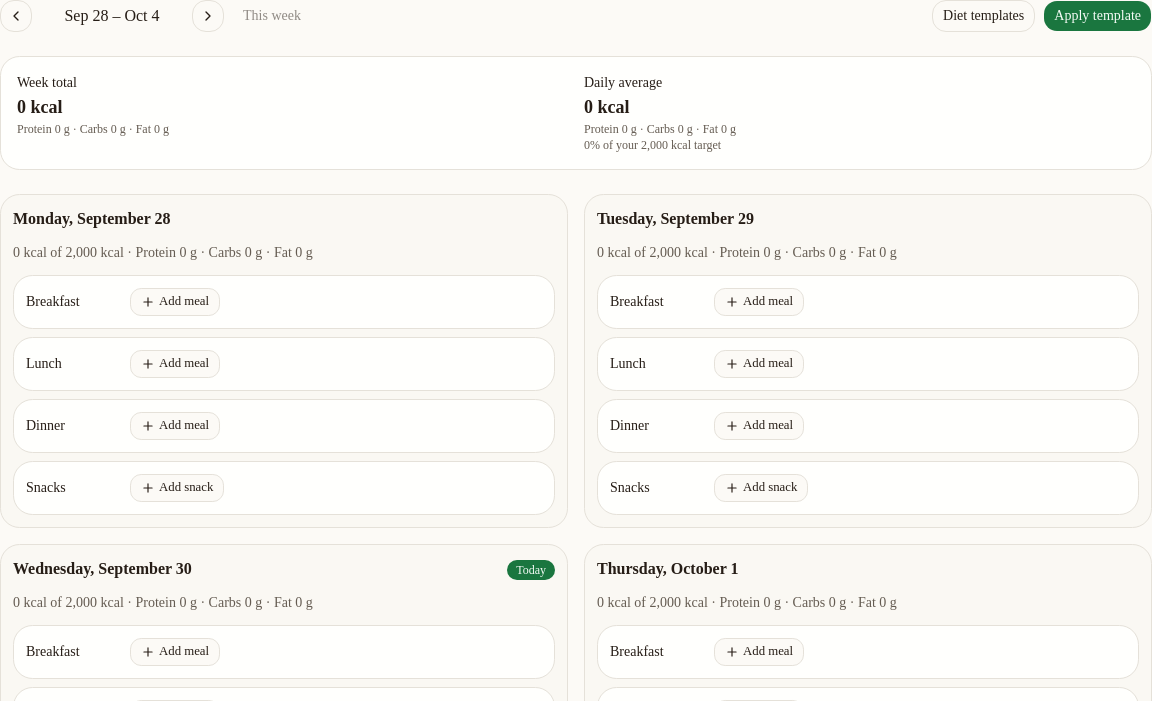
Test case: applying a template › retries once with overwrite when the person says replace
Expected: the text "Sep 28 – Oct 4" is shown, [64,7,160,24]
Click the button "Apply template" at (1098, 16), box [1043,0,1151,32]
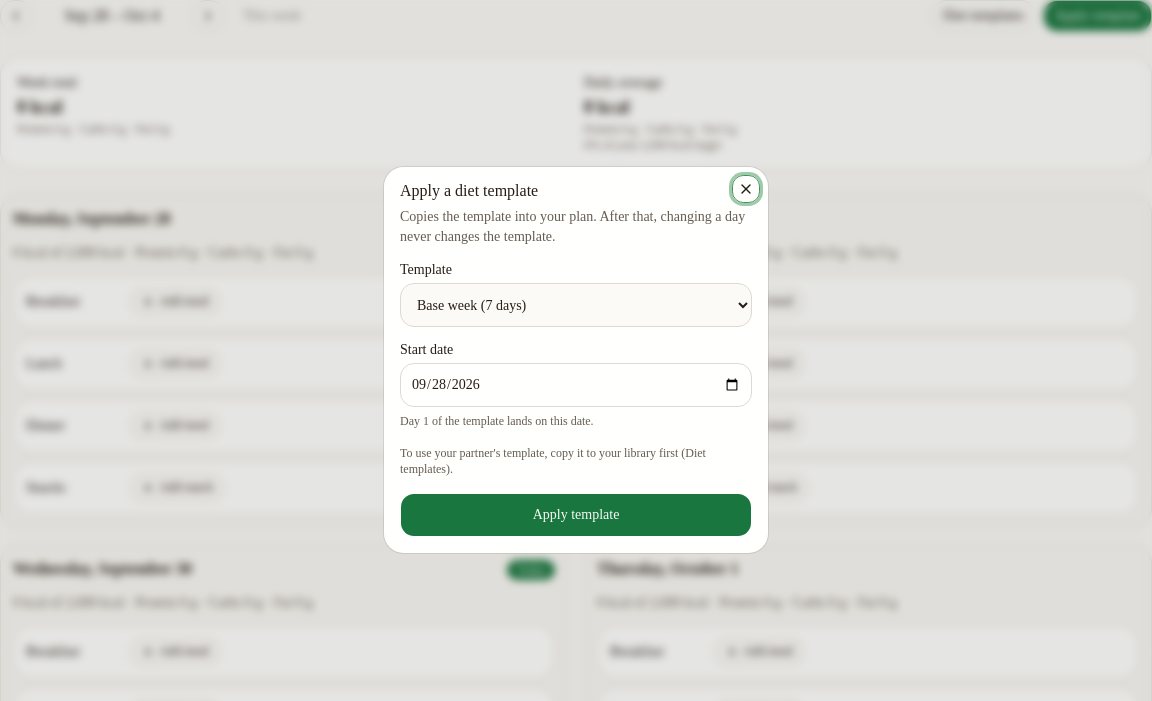
Click the button "Apply template" at (576, 515), box [400,493,752,537]
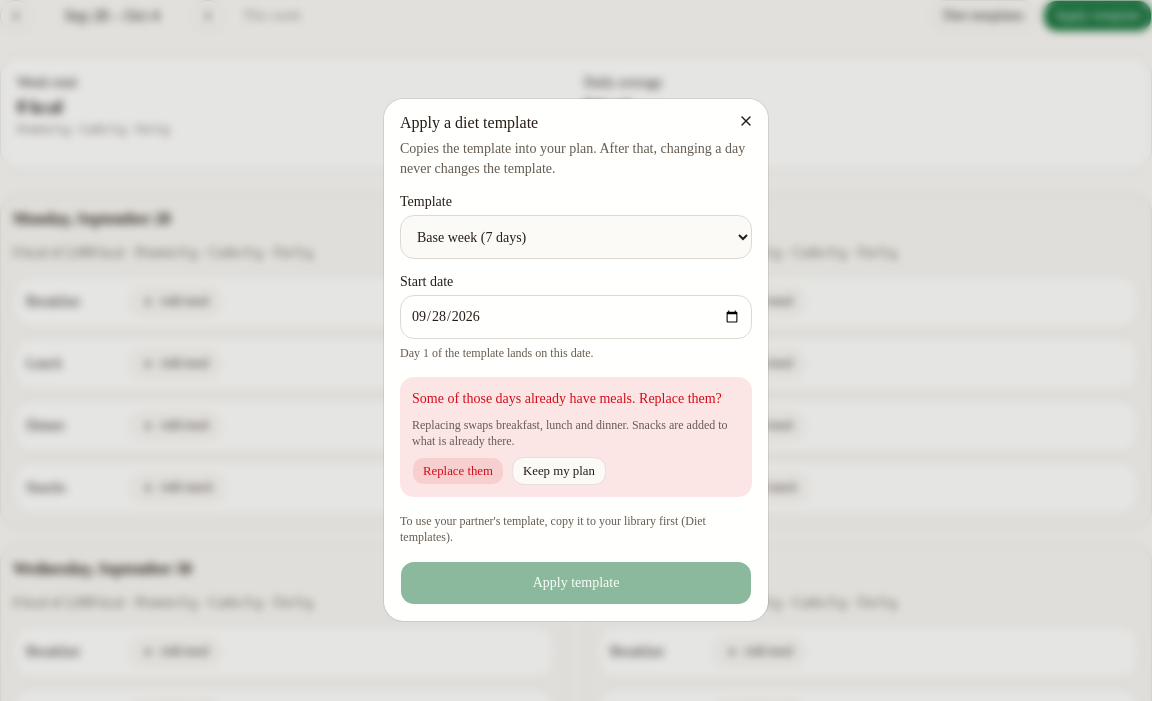
Click the button "Replace them" at (458, 471), box [412,457,504,485]
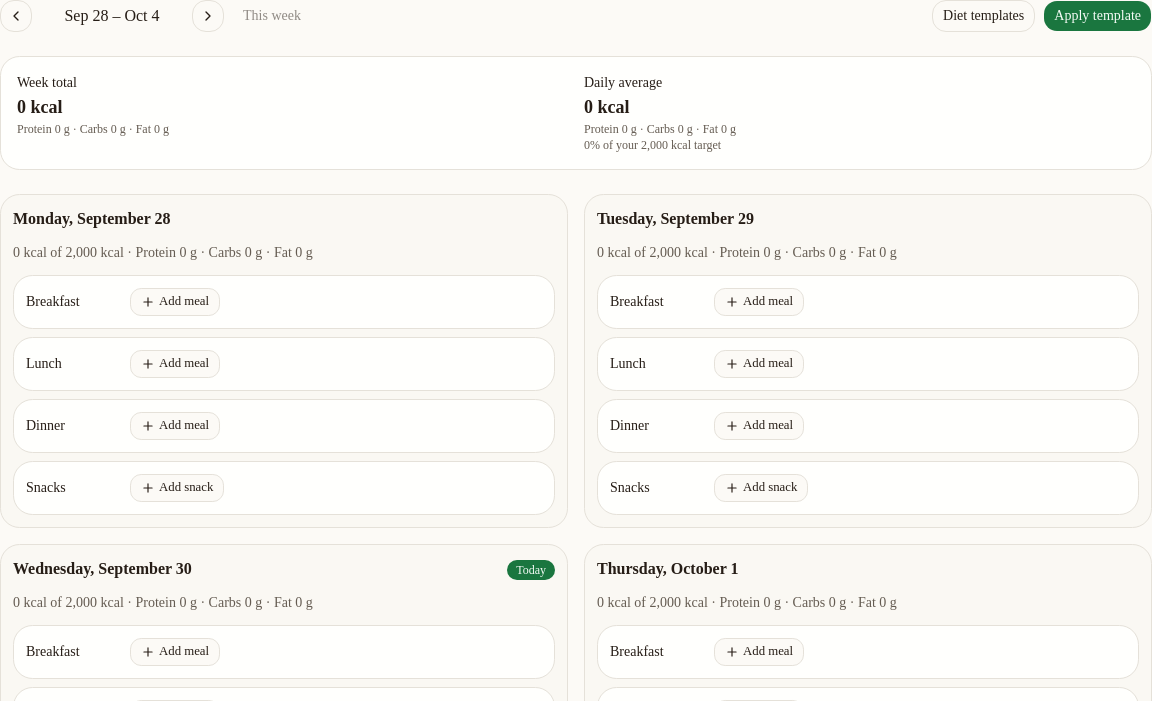
Expected: the dialog is gone
